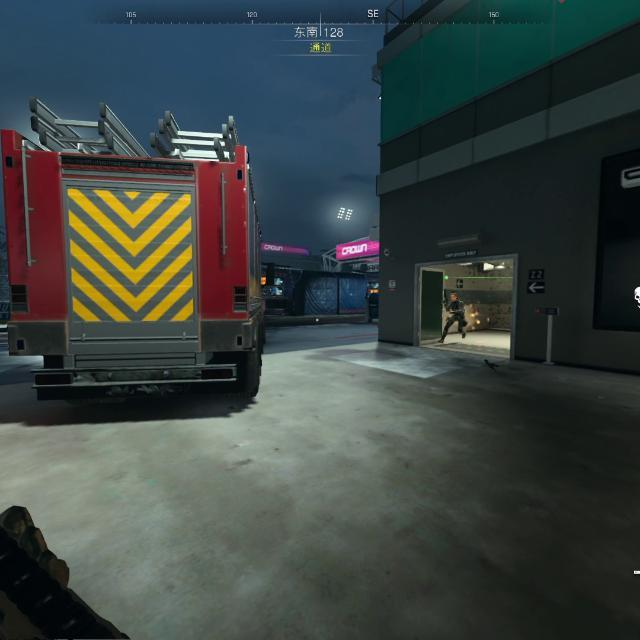MW2_body: (438, 294, 467, 343)
